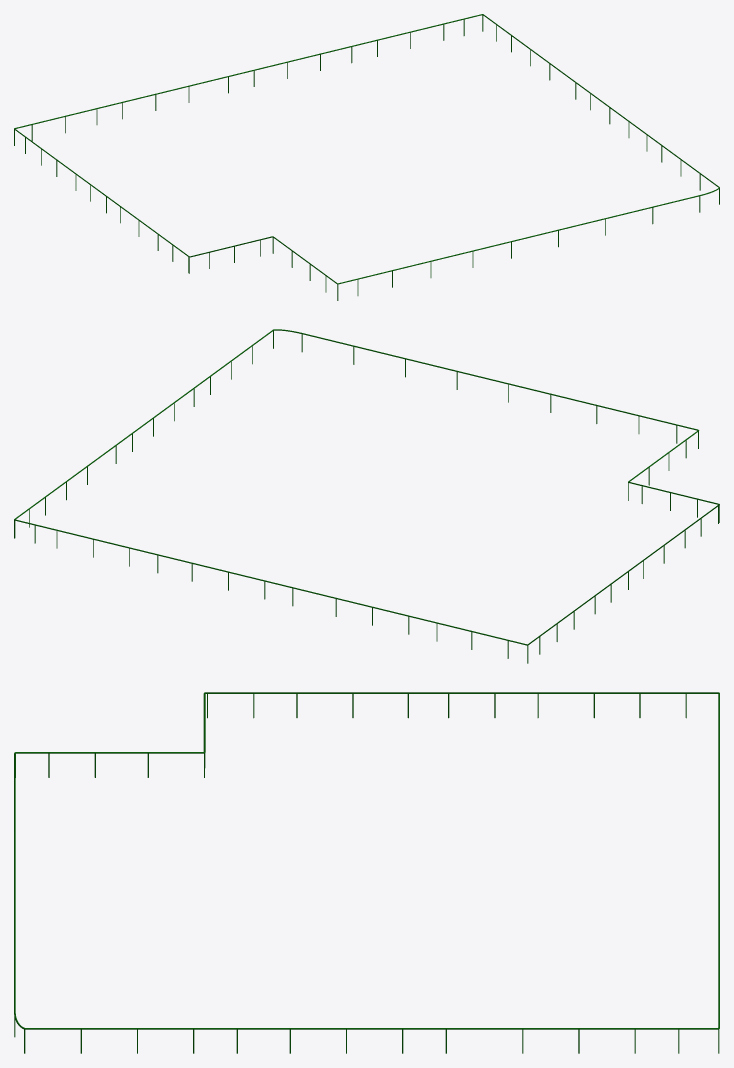
The model's file is FloatingAptRailings_mesh.fbx.
The picture shows the model from 3 angles, top to bottom: view 1: azimuth 30°, elevation 25°; view 2: azimuth 150°, elevation 25°; view 3: azimuth 270°, elevation 25°; orthographic projection. The views are drawn at different scales.
Visible parts, largest first — view 1: FloatingAptRailings_mesh; view 2: FloatingAptRailings_mesh; view 3: FloatingAptRailings_mesh.
Boxes of the visible parts, x1,y1,x2,y2 form: FloatingAptRailings_mesh: (14, 14, 719, 300); FloatingAptRailings_mesh: (14, 329, 719, 663); FloatingAptRailings_mesh: (14, 692, 719, 1053).
Size of the model in its own units: 1133 by 40.24 by 1005.
